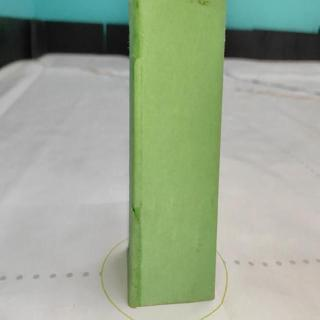greenbox: (127, 0, 225, 309)
